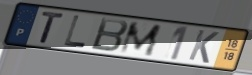1: (168, 24, 190, 62)
B: (89, 16, 130, 54)
K: (186, 28, 221, 65)
L: (62, 14, 88, 49)
M: (117, 21, 164, 58)
T: (39, 11, 67, 45)
